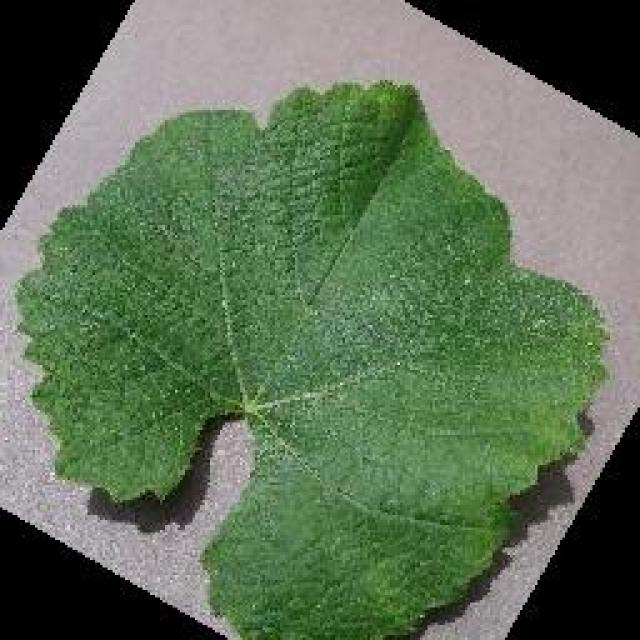Grape___healthy: (2, 74, 618, 638)
